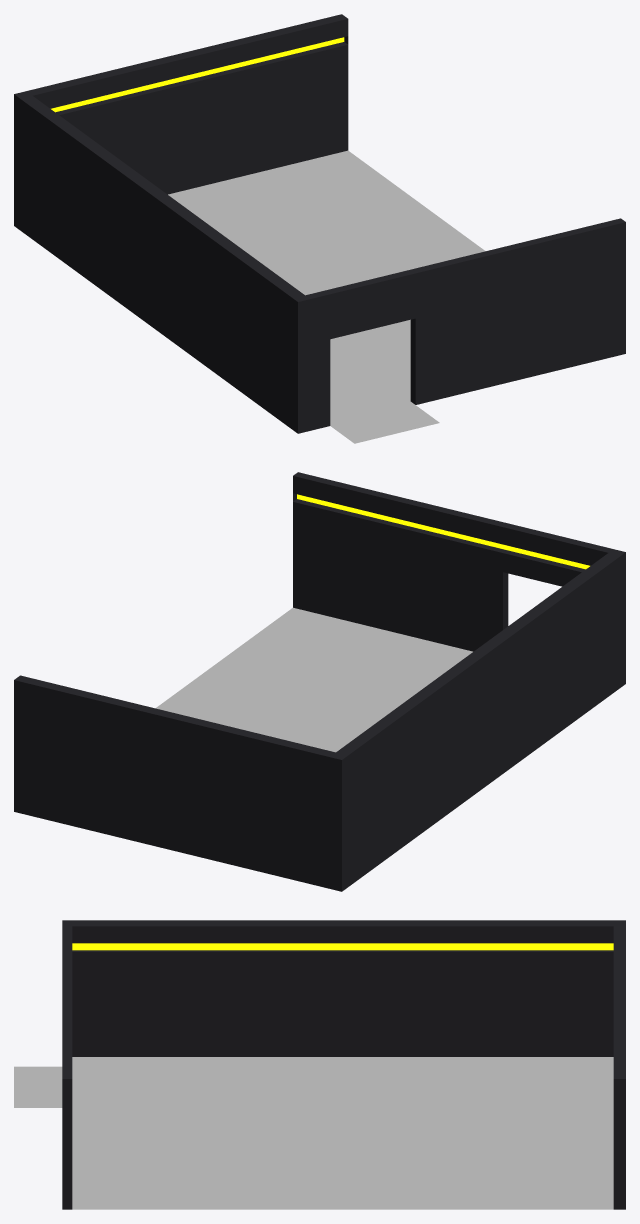
The model's file is lab.fbx.
3 renders of one model, top to bottom at view 1: azimuth 30°, elevation 25°; view 2: azimuth 150°, elevation 25°; view 3: azimuth 270°, elevation 25°, orthographic.
Parts seen in each view (by area): view 1: Plane; view 2: Plane; view 3: Plane.
Boxes of the visible parts, x1,y1,x2,y2 form: Plane: (14,14,625,443); Plane: (14,472,625,891); Plane: (14,920,625,1209).
Bounding box in the file's own units: 1303 × 800 × 307.
